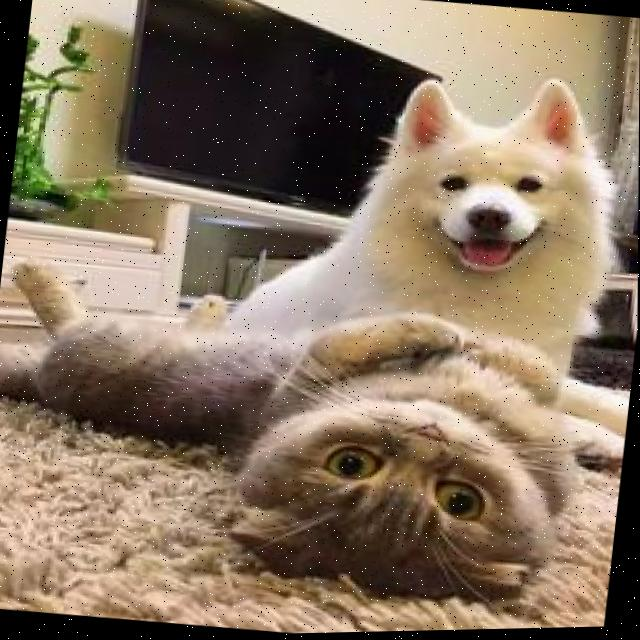Scottish Fold: (0, 242, 604, 627)
